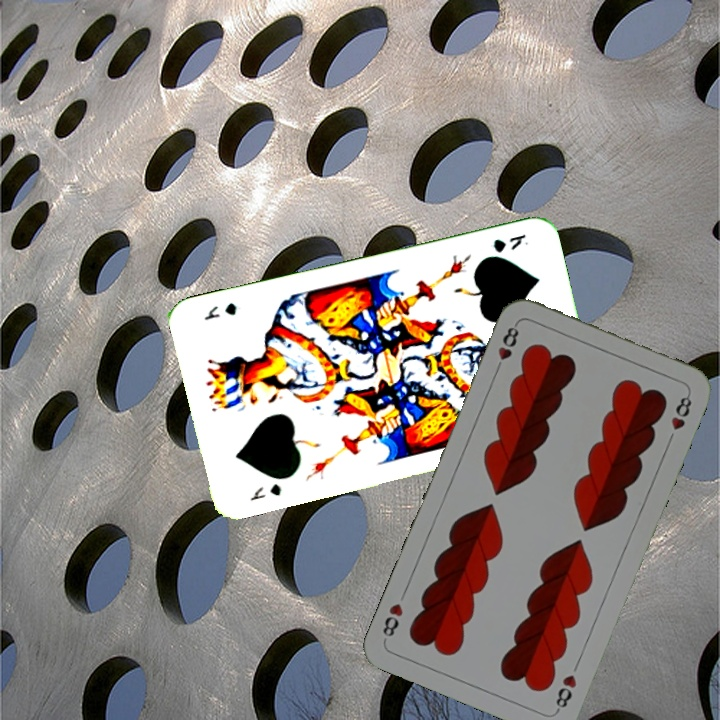GK: (489, 230, 531, 256), (246, 479, 284, 504)
H8: (491, 319, 522, 376), (551, 670, 579, 715)
